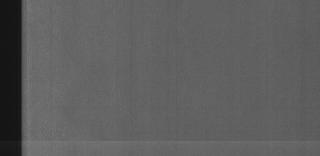welding line: (21, 136, 320, 146)
